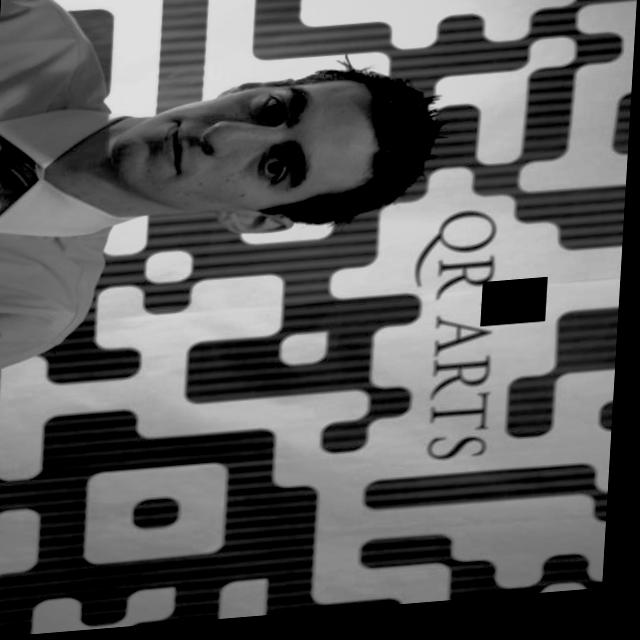qr_code: (484, 287, 551, 335)
